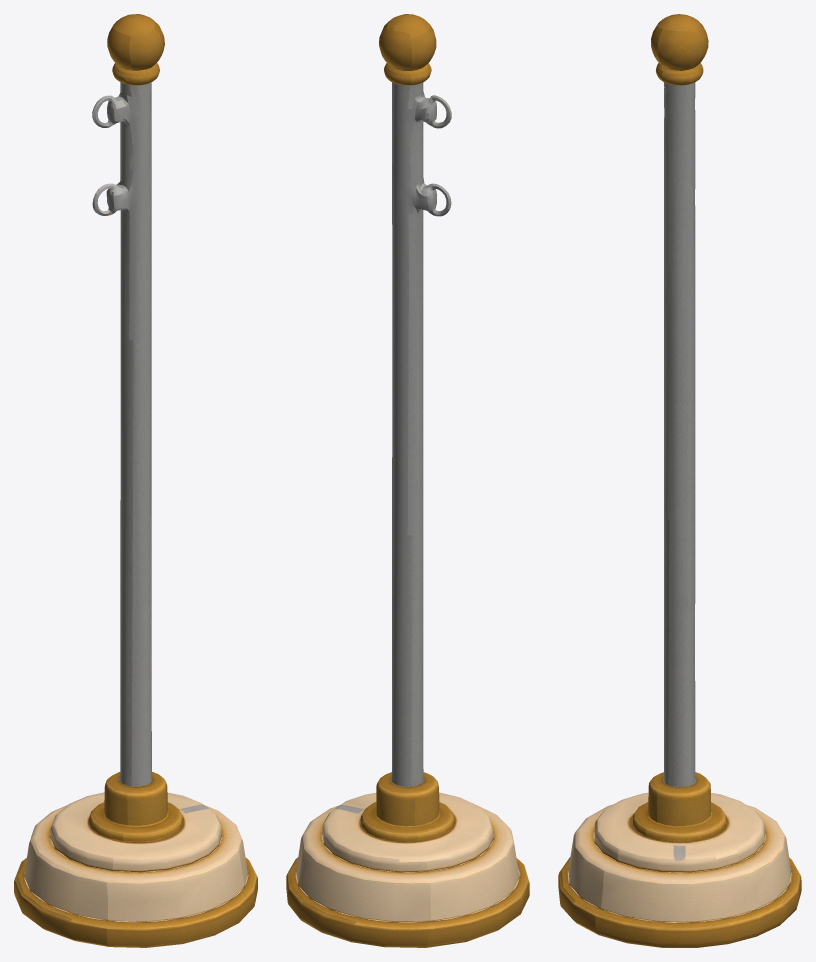
File: bayrak-direk.glb
3 renders of one model, left to right at view 1: azimuth 30°, elevation 25°; view 2: azimuth 150°, elevation 25°; view 3: azimuth 270°, elevation 25°, orthographic.
Parts seen in each view (by area): view 1: Mesh0; view 2: Mesh0; view 3: Mesh0.
Part boxes in pixels (x1=…): Mesh0: x1=14, y1=14, x2=257, y2=947; Mesh0: x1=286, y1=14, x2=529, y2=947; Mesh0: x1=558, y1=14, x2=801, y2=947.
Bounding box in the file's own units: 0.4714 × 1.9 × 0.4751.
Materials: 1 (1 with a texture image).
